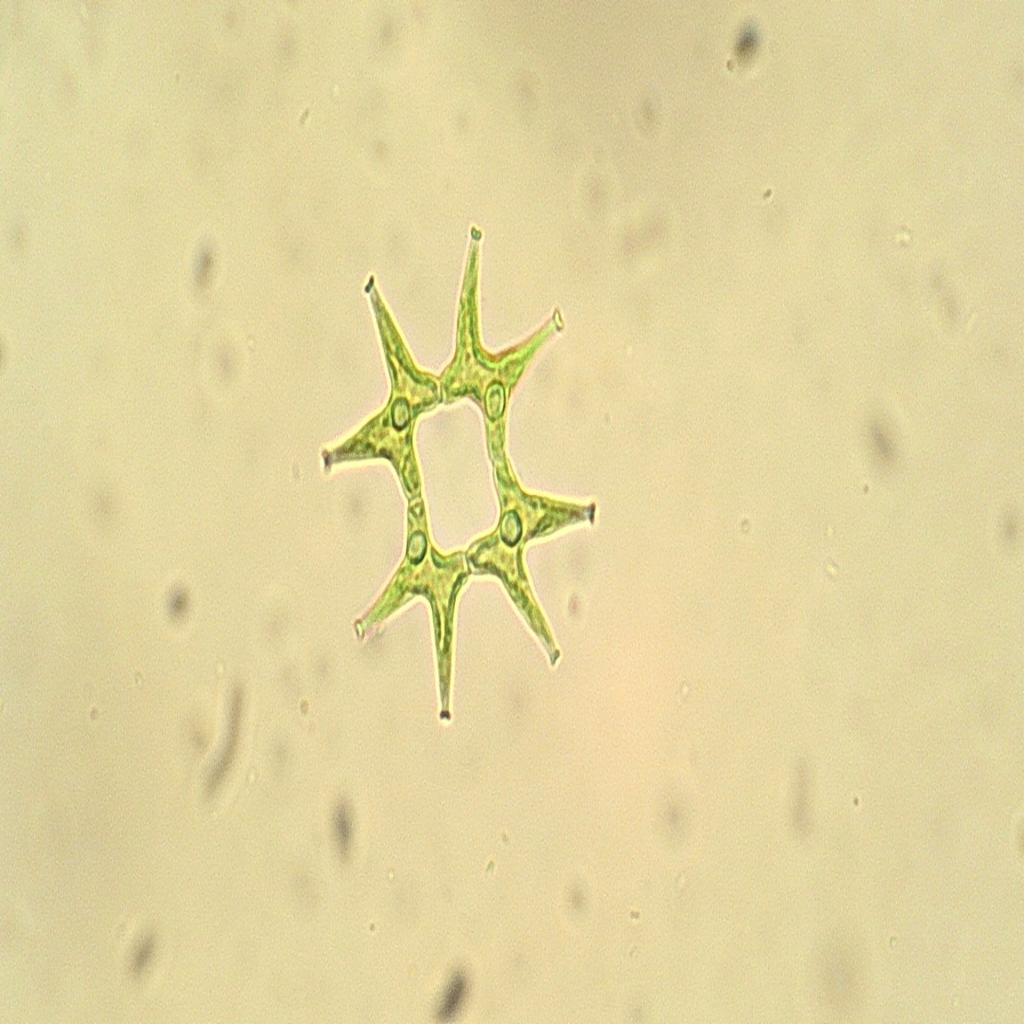Pediastrum_75O: (304, 215, 618, 735)
